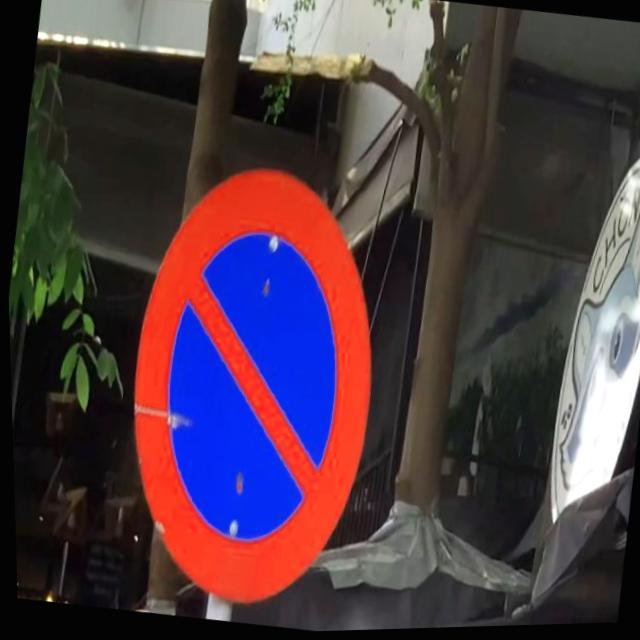Cam do xe: (90, 141, 408, 624)
